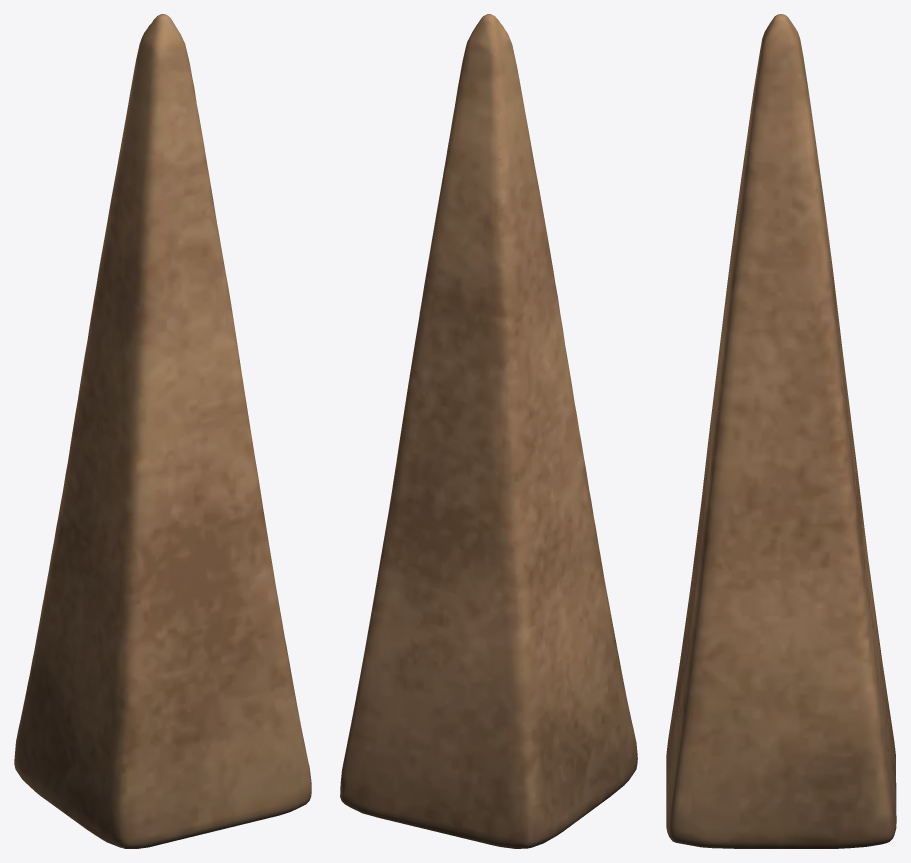
Rendered from plain-sandstone-obelisk-v001.glb.
3 renders of one model, left to right at view 1: azimuth 30°, elevation 25°; view 2: azimuth 150°, elevation 25°; view 3: azimuth 270°, elevation 25°, orthographic.
Visible parts, largest first — view 1: plain-sandstone-obelisk; view 2: plain-sandstone-obelisk; view 3: plain-sandstone-obelisk.
Part boxes in pixels (<box>): plain-sandstone-obelisk: <box>14,14,311,848</box>; plain-sandstone-obelisk: <box>340,14,637,848</box>; plain-sandstone-obelisk: <box>666,14,896,848</box>.
Size of the model in its own units: 0.434 by 1.61 by 0.4245.
Materials: 1 (1 with a texture image).
